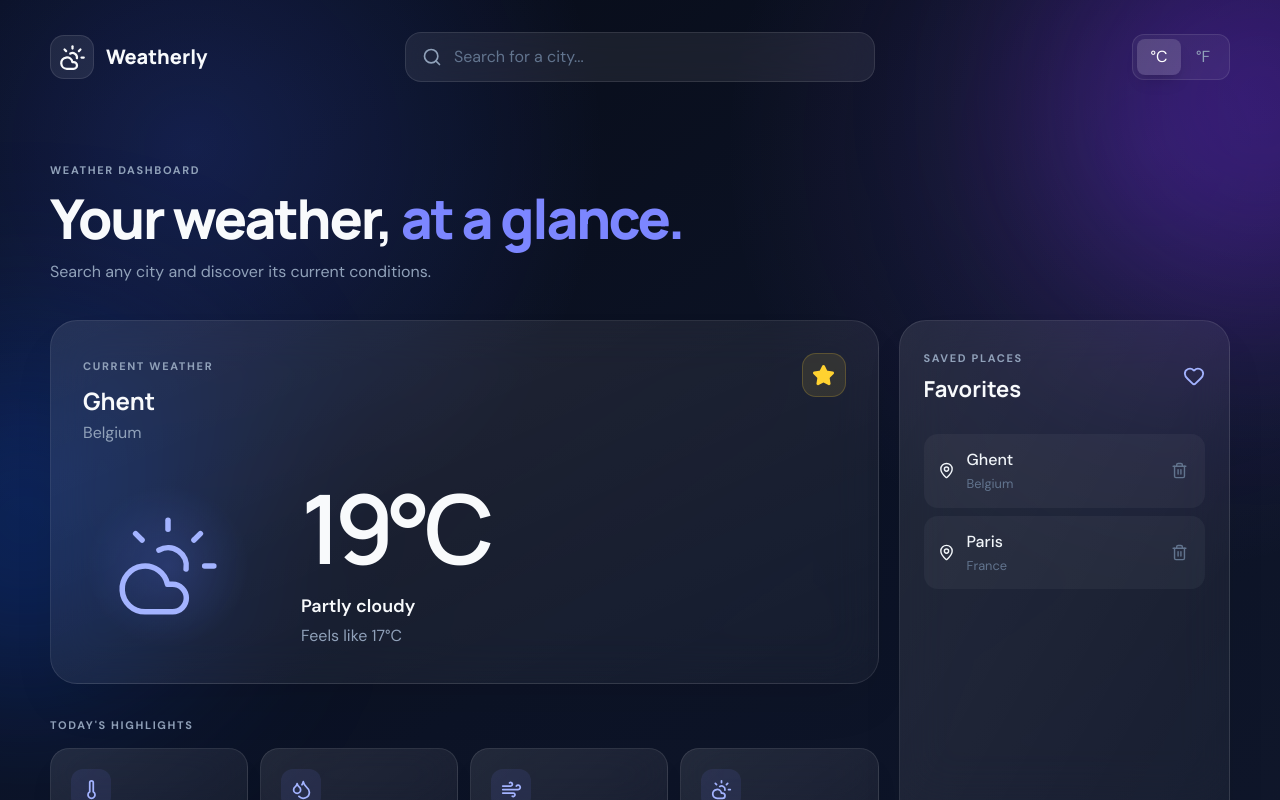
Test: Unit toggle › switches to Fahrenheit
Click the button with test id "unit-fahrenheit": (1203, 57) [1181,39,1225,75]
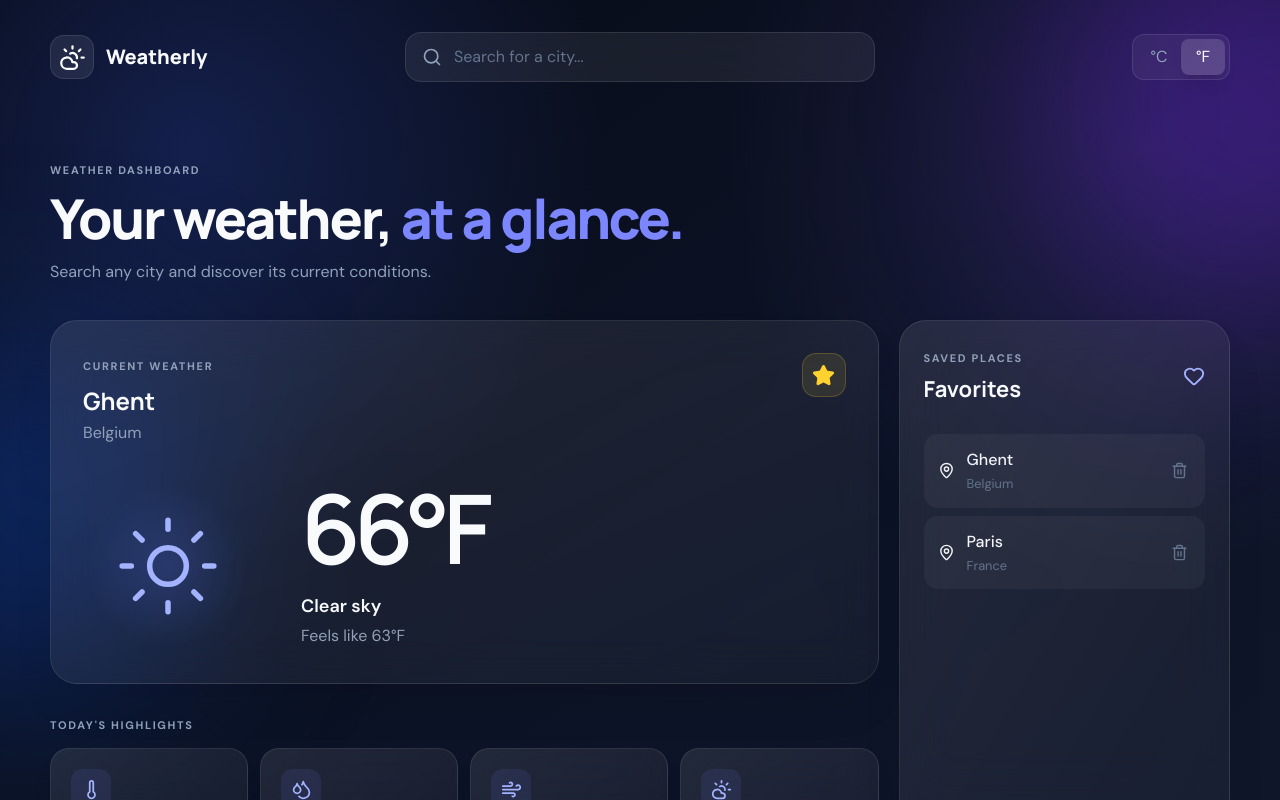
Check: the element with test id "highlight-feels-like" shows "63°F", box [50,748,248,799]
Check: the text with test id "temperature" reads "66°F", box [301,485,486,571]
Check: the heading with test id "condition" reads "Clear sky", box [301,594,381,618]
